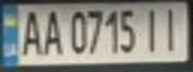0: (63, 7, 87, 55)
1: (103, 7, 121, 54)
5: (118, 6, 142, 54)
7: (84, 7, 106, 55)
A: (15, 6, 45, 57), (39, 7, 66, 56)
I: (157, 5, 187, 53), (139, 5, 166, 53)
